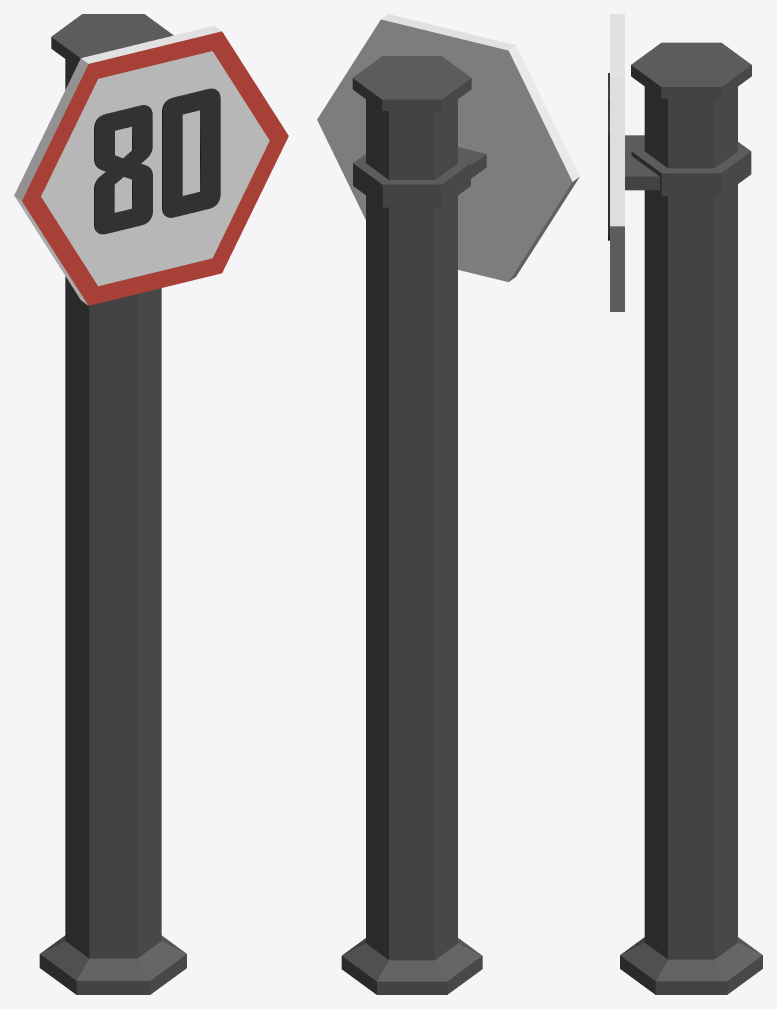
File: traffic_09.fbx
3 views of the same model, side by side, from view 1: azimuth 30°, elevation 25°; view 2: azimuth 150°, elevation 25°; view 3: azimuth 270°, elevation 25° (orthographic). The views are drawn at different scales.
Visible parts, largest first — view 1: Cylinder.025, Cylinder.026, Text.001; view 2: Cylinder.025, Cylinder.026; view 3: Cylinder.025, Cylinder.026, Cube.010.
Boxes of the visible parts, <box> form: Cylinder.025: <box>39,14,186,994</box>; Cylinder.026: <box>14,25,288,305</box>; Text.001: <box>94,88,220,234</box>; Cylinder.025: <box>341,56,482,994</box>; Cylinder.026: <box>317,14,579,281</box>; Cylinder.025: <box>620,42,762,994</box>; Cylinder.026: <box>610,14,624,311</box>; Cube.010: <box>625,135,659,190</box>.
Bounding box in the file's own units: 80.4 × 274 × 41.59.
